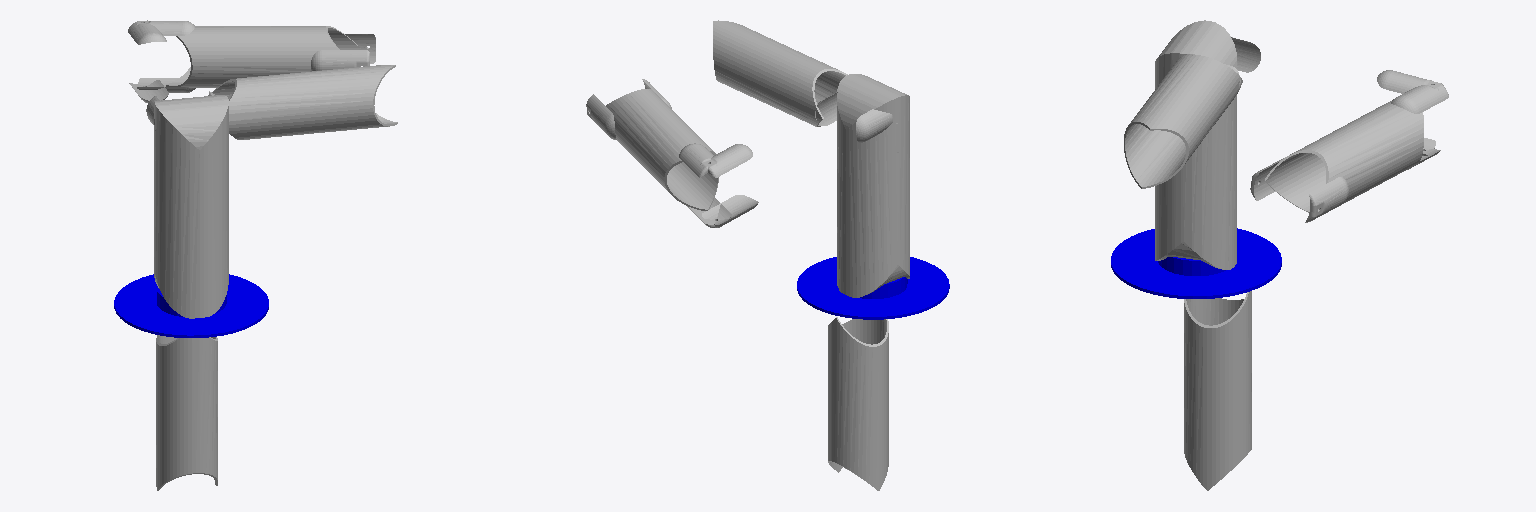
robot.urdf — arm_description:
<robot
  name="arm_description">
  <link
    name="base_link">
    <inertial>
      <origin
        xyz="0.00857185004749454 0.0277890770314089 0.0379884681378223"
        rpy="0 0 0" />
      <mass
        value="0.0450462948917676" />
      <inertia
        ixx="0"
        ixy="0"
        ixz="0"
        iyy="0"
        iyz="0"
        izz="0" />
    </inertial>
    <visual>
      <origin
        xyz="0 0 0"
        rpy="0 0 0" />
      <geometry>
        <mesh
          filename="package://arm_description/meshes/base_link.STL" />
      </geometry>
      <material
        name="">
        <color
          rgba="0 0 1 0.5" />
      </material>
    </visual>
    <collision>
      <origin
        xyz="0 0 0"
        rpy="0 0 0" />
      <geometry>
        <mesh
          filename="package://arm_description/meshes/base_link.STL" />
      </geometry>
    </collision>
  </link>
  <link
    name="link1">
    <inertial>
      <origin
        xyz="0.110757629166325 -8.47845751938969E-12 8.47839506934456E-12"
        rpy="0 0 0" />
      <mass
        value="0.0483301725897621" />
      <inertia
        ixx="7.30576878083873E-06"
        ixy="-1.58332132490097E-15"
        ixz="1.58327752225683E-15"
        iyy="4.54361196205422E-05"
        iyz="8.37316539727175E-11"
        izz="3.81303508416227E-05" />
    </inertial>
    <visual>
      <origin
        xyz="0 0 0"
        rpy="0 0 0" />
      <geometry>
        <mesh
          filename="package://arm_description/meshes/link1.STL" />
      </geometry>
      <material
        name="">
        <color
          rgba="0.752941176470588 0.752941176470588 0.752941176470588 1" />
      </material>
    </visual>
    <collision>
      <origin
        xyz="0 0 0"
        rpy="0 0 0" />
      <geometry>
        <mesh
          filename="package://arm_description/meshes/link1.STL" />
      </geometry>
    </collision>
  </link>
  <joint
    name="joint1"
    type="continuous">
    <origin
      xyz="0.0085719 0.027789 0.020415"
      rpy="2.8348 -1.5708 0" />
    <parent
      link="base_link" />
    <child
      link="link1" />
    <axis
      xyz="1 0 0" />
  </joint>
  <link
    name="link2">
    <inertial>
      <origin
        xyz="0.0943407218386796 5.81092854593304E-07 -9.84910960427632E-07"
        rpy="0 0 0" />
      <mass
        value="0.0585758042581199" />
      <inertia
        ixx="1.46113815408979E-05"
        ixy="-3.52725056104033E-10"
        ixz="6.80793122545069E-11"
        iyy="0.00011990337254757"
        iyz="1.21656237397079E-10"
        izz="0.000119903479385558" />
    </inertial>
    <visual>
      <origin
        xyz="0 0 0"
        rpy="0 0 0" />
      <geometry>
        <mesh
          filename="package://arm_description/meshes/link2.STL" />
      </geometry>
      <material
        name="">
        <color
          rgba="0.752941176470588 0.752941176470588 0.752941176470588 1" />
      </material>
    </visual>
    <collision>
      <origin
        xyz="0 0 0"
        rpy="0 0 0" />
      <geometry>
        <mesh
          filename="package://arm_description/meshes/link2.STL" />
      </geometry>
    </collision>
  </link>
  <joint
    name="joint2"
    type="revolute">
    <origin
      xyz="0.18177 0 0"
      rpy="-1.5708 3.3307E-16 -1.7091" />
    <parent
      link="link1" />
    <child
      link="link2" />
    <axis
      xyz="0 -1 0" />
    <limit
      effort="0"
      velocity="0" />
  </joint>
  <link
    name="link3">
    <inertial>
      <origin
        xyz="0.0943408063355609 4.37197531261146E-07 -3.60101098773047E-07"
        rpy="0 0 0" />
      <mass
        value="0.0585758669634938" />
      <inertia
        ixx="1.46114629506271E-05"
        ixy="-2.88431244518703E-10"
        ixz="-8.17701402342981E-11"
        iyy="0.000119903710392333"
        iyz="1.32272864568619E-10"
        izz="0.000119903769241556" />
    </inertial>
    <visual>
      <origin
        xyz="0 0 0"
        rpy="0 0 0" />
      <geometry>
        <mesh
          filename="package://arm_description/meshes/link3.STL" />
      </geometry>
      <material
        name="">
        <color
          rgba="0.752941176470588 0.752941176470588 0.752941176470588 1" />
      </material>
    </visual>
    <collision>
      <origin
        xyz="0 0 0"
        rpy="0 0 0" />
      <geometry>
        <mesh
          filename="package://arm_description/meshes/link3.STL" />
      </geometry>
    </collision>
  </link>
  <joint
    name="joint3"
    type="revolute">
    <origin
      xyz="0.18177 0 0"
      rpy="-1.5708 2.3592E-16 -1.8796" />
    <parent
      link="link2" />
    <child
      link="link3" />
    <axis
      xyz="0 -1 0" />
    <limit
      effort="0"
      velocity="0" />
  </joint>
</robot>

--- Render facts (derived) ---
3 views of the same robot in one strip: view 1: azimuth 30°, elevation 25°; view 2: azimuth 150°, elevation 25°; view 3: azimuth 270°, elevation 25° (orthographic).
Model arm_description with 4 links and 3 joints (2 revolute, 1 continuous), rooted at base_link, posed every joint at zero.
Links seen in each view (by area): view 1: link1, link2, link3, base_link; view 2: link1, link2, link3, base_link; view 3: link1, link3, link2, base_link.
Boxes of the visible links, bbox=[...] form: link1: bbox=[154, 95, 228, 490]; link2: bbox=[128, 20, 397, 139]; link3: bbox=[136, 21, 375, 92]; base_link: bbox=[114, 274, 268, 337]; link1: bbox=[828, 74, 909, 490]; link2: bbox=[700, 20, 892, 227]; link3: bbox=[586, 79, 731, 227]; base_link: bbox=[797, 257, 949, 319]; link1: bbox=[1155, 20, 1251, 490]; link3: bbox=[1250, 80, 1448, 222]; link2: bbox=[1124, 37, 1443, 188]; base_link: bbox=[1111, 228, 1281, 298].
Size in the robot's own frame: 0.2878 by 0.2508 by 0.3636 metres.
4 mesh visuals loaded from 4 distinct referenced files (4 binary STL).